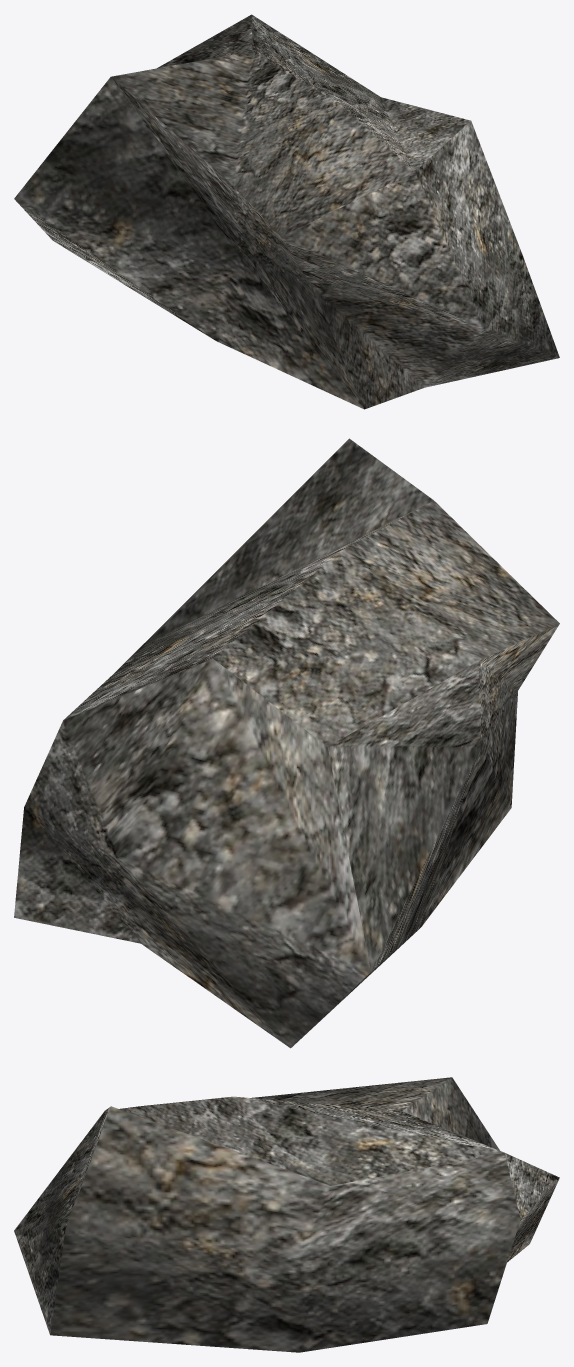
The model's file is rock2.fbx.
3 views of the same model, one above another, from view 1: azimuth 30°, elevation 25°; view 2: azimuth 150°, elevation 25°; view 3: azimuth 270°, elevation 25° (orthographic). The views are drawn at different scales.
Visible parts, largest first — view 1: Cube; view 2: Cube; view 3: Cube.
Boxes of the visible parts, left/top/right/bottom form: Cube: left=14, top=14, right=559, bottom=409; Cube: left=14, top=438, right=559, bottom=1048; Cube: left=14, top=1077, right=559, bottom=1352.
Bounding box in the file's own units: 83.6 × 70.66 × 140.
